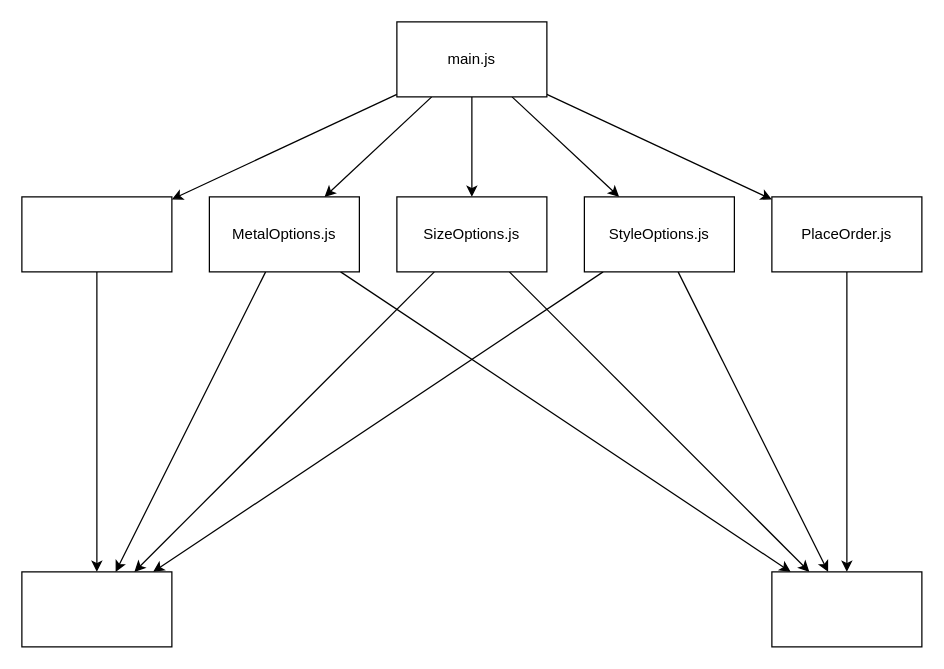
Some shapes in this 944 by 669 pixel diagram are drawn without their labels. The centre of each missing label's shape, as x and y in pixels:
database.json: point 96,609
OrdersList.js: point 96,234
TransientState.js: point 846,609
